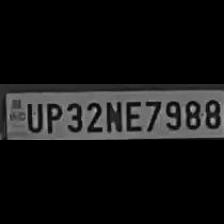2: (83, 99, 103, 133)
3: (64, 99, 82, 133)
7: (140, 98, 160, 132)
8: (200, 96, 222, 130), (182, 97, 200, 131)
9: (161, 97, 181, 130)
E: (122, 98, 142, 132)
N: (103, 97, 123, 132)
P: (43, 100, 62, 134)
U: (24, 100, 42, 132)
